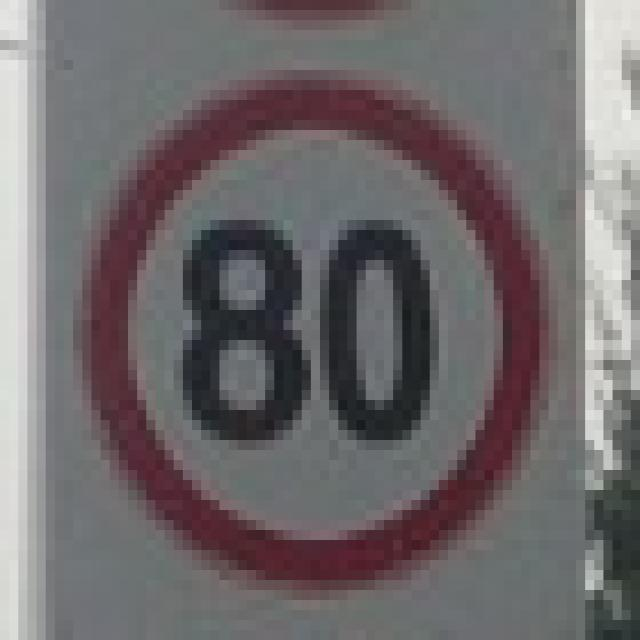Speed Limit -80-: (173, 217, 438, 451)
